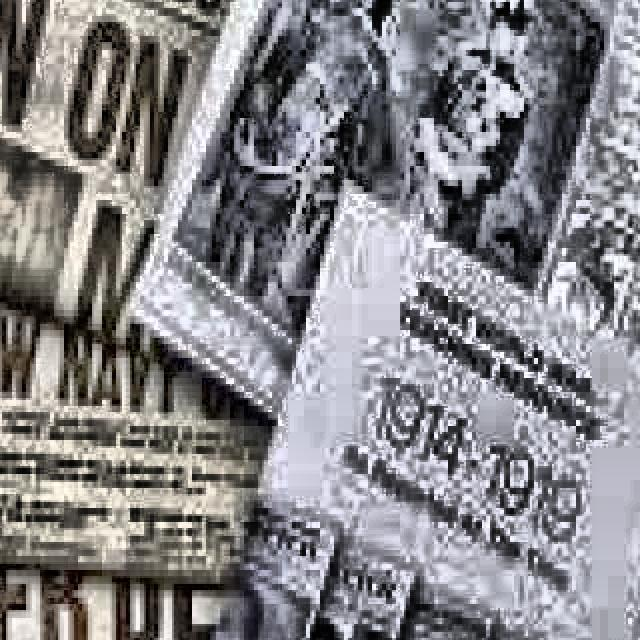paper: (126, 0, 640, 640), (150, 174, 640, 640), (0, 0, 272, 576), (0, 0, 286, 358)
